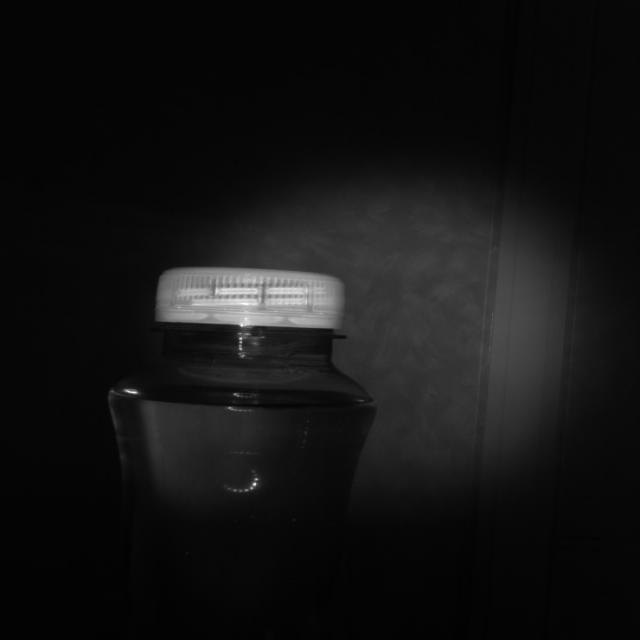Good: (153, 264, 349, 332)
